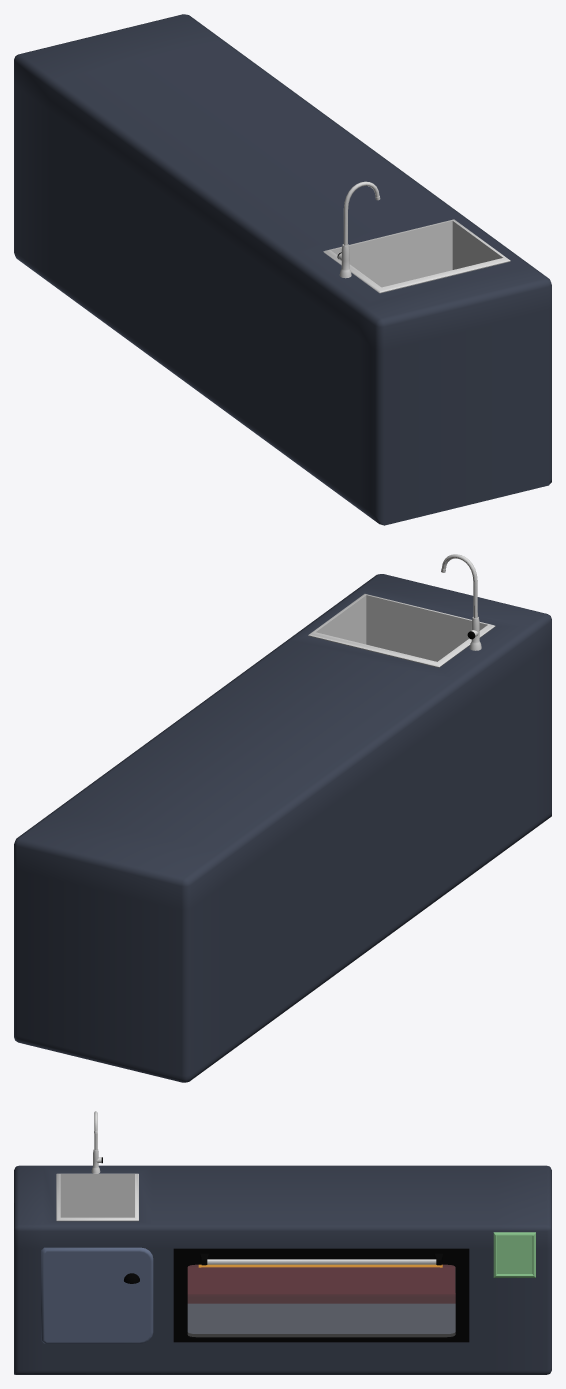
Rendered from Oven.fbx.
The picture shows the model from 3 angles, top to bottom: view 1: azimuth 30°, elevation 25°; view 2: azimuth 150°, elevation 25°; view 3: azimuth 270°, elevation 25°; orthographic projection. The views are drawn at different scales.
Parts seen in each view (by area): view 1: Oven, Sink; view 2: Oven, Sink; view 3: Oven, OvenDoorGlass, SinkCupboardDoor, OvenTray, OvenDoor, Sink, TouchsreenMount, HeatingElement.
Boxes of the visible parts, left/top/right/bottom form: Oven: left=14, top=14, right=551, bottom=525; Sink: left=323, top=219, right=510, bottom=293; Oven: left=14, top=574, right=551, bottom=1082; Sink: left=308, top=594, right=495, bottom=667; Oven: left=14, top=1165, right=551, bottom=1374; OvenDoorGlass: left=188, top=1265, right=455, bottom=1336; SinkCupboardDoor: left=41, top=1247, right=153, bottom=1343; OvenTray: left=187, top=1264, right=455, bottom=1303; OvenDoor: left=173, top=1248, right=469, bottom=1342; Sink: left=56, top=1173, right=138, bottom=1221; TouchsreenMount: left=493, top=1232, right=535, bottom=1277; HeatingElement: left=198, top=1264, right=442, bottom=1267.
Bounding box in the file's own units: 97.44 × 144 × 325.
